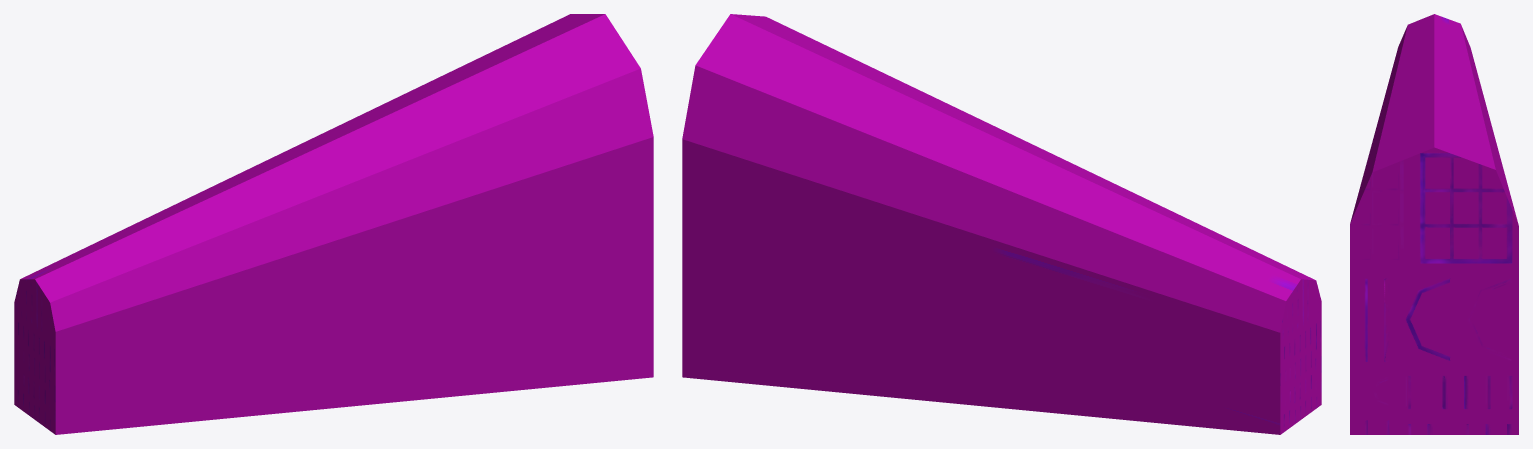
File: Light.fbx
3 views of the same model, side by side, from view 1: azimuth 30°, elevation 25°; view 2: azimuth 150°, elevation 25°; view 3: azimuth 270°, elevation 25° (orthographic). The views are drawn at different scales.
Parts seen in each view (by area): view 1: Plane.006; view 2: Plane.006; view 3: Plane.006.
Boxes of the visible parts, x1=… form: Plane.006: x1=14, y1=14, x2=653, y2=434; Plane.006: x1=682, y1=14, x2=1321, y2=434; Plane.006: x1=1350, y1=14, x2=1518, y2=434.
Bounding box in the file's own units: 1517 × 834 × 444.
Materials: 1 (1 with a texture image).
